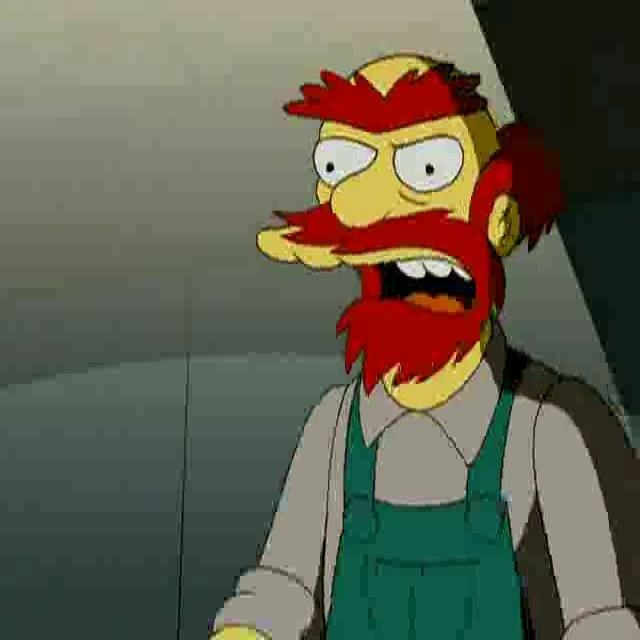Groundskeeper Willie: (255, 51, 563, 400)
